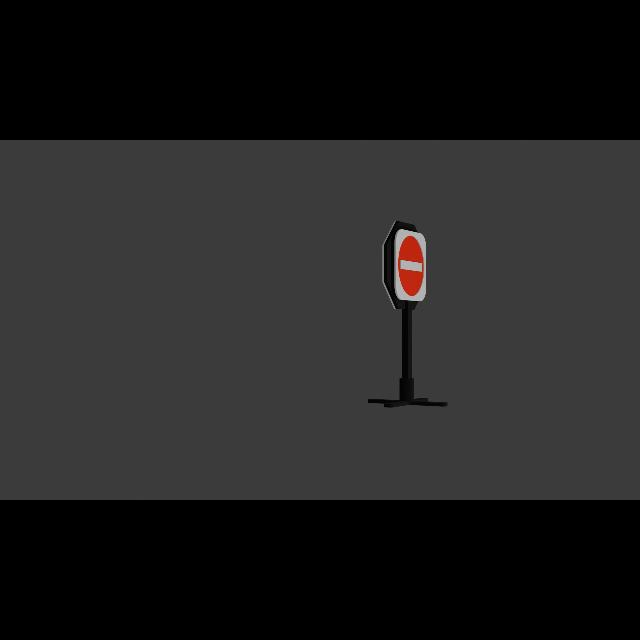sign_noentry: (397, 234, 426, 301)
